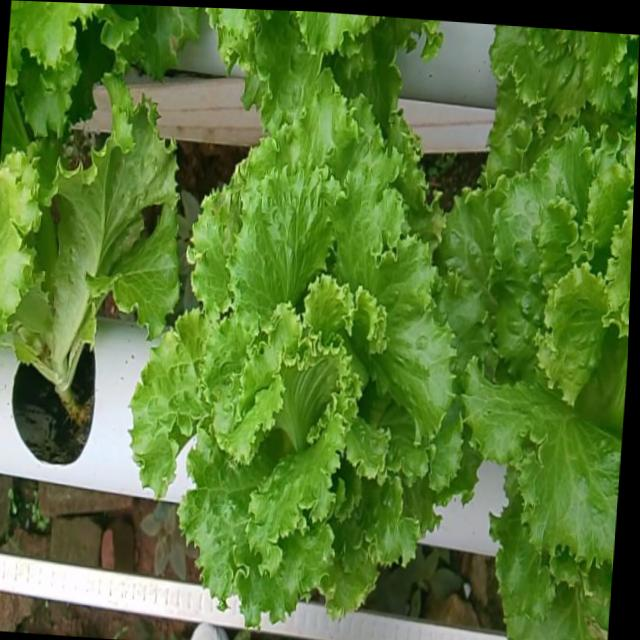Mature: (122, 93, 455, 628), (434, 131, 634, 578)
